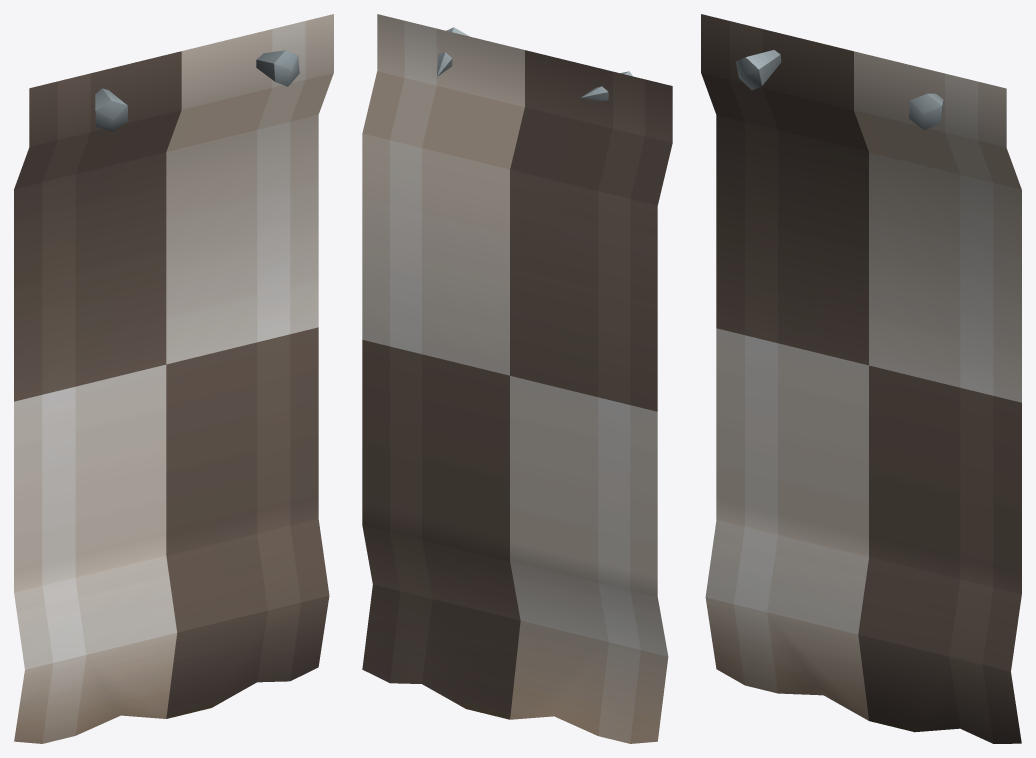
File: sail.glb
The picture shows the model from 3 angles, left to right: view 1: azimuth 30°, elevation 25°; view 2: azimuth 150°, elevation 25°; view 3: azimuth 330°, elevation 25°; orthographic projection. The views are drawn at different scales.
Parts seen in each view (by area): view 1: banner_patternA_white; view 2: banner_patternA_white; view 3: banner_patternA_white.
Part boxes in pixels (x1=…): banner_patternA_white: x1=14, y1=14, x2=333, y2=743; banner_patternA_white: x1=362, y1=14, x2=672, y2=743; banner_patternA_white: x1=701, y1=14, x2=1021, y2=743.
Bounding box in the file's own units: 1.5 × 3.2 × 0.3117.
Materials: 1 (1 with a texture image).
